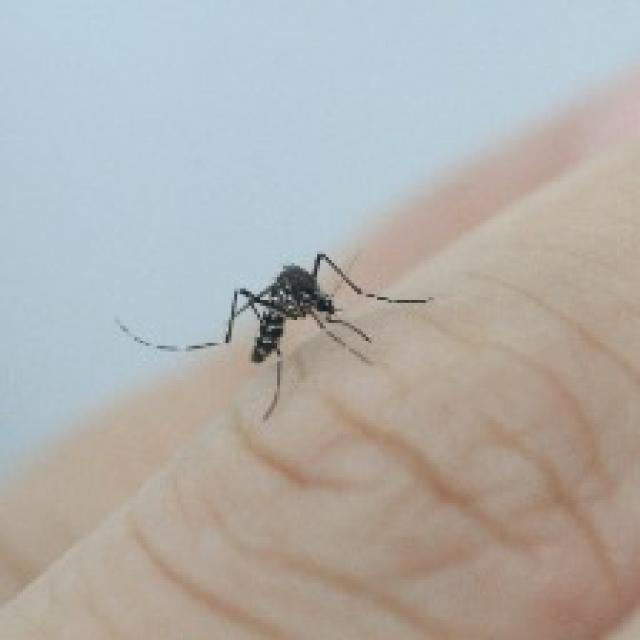aedes: (111, 246, 432, 423)
